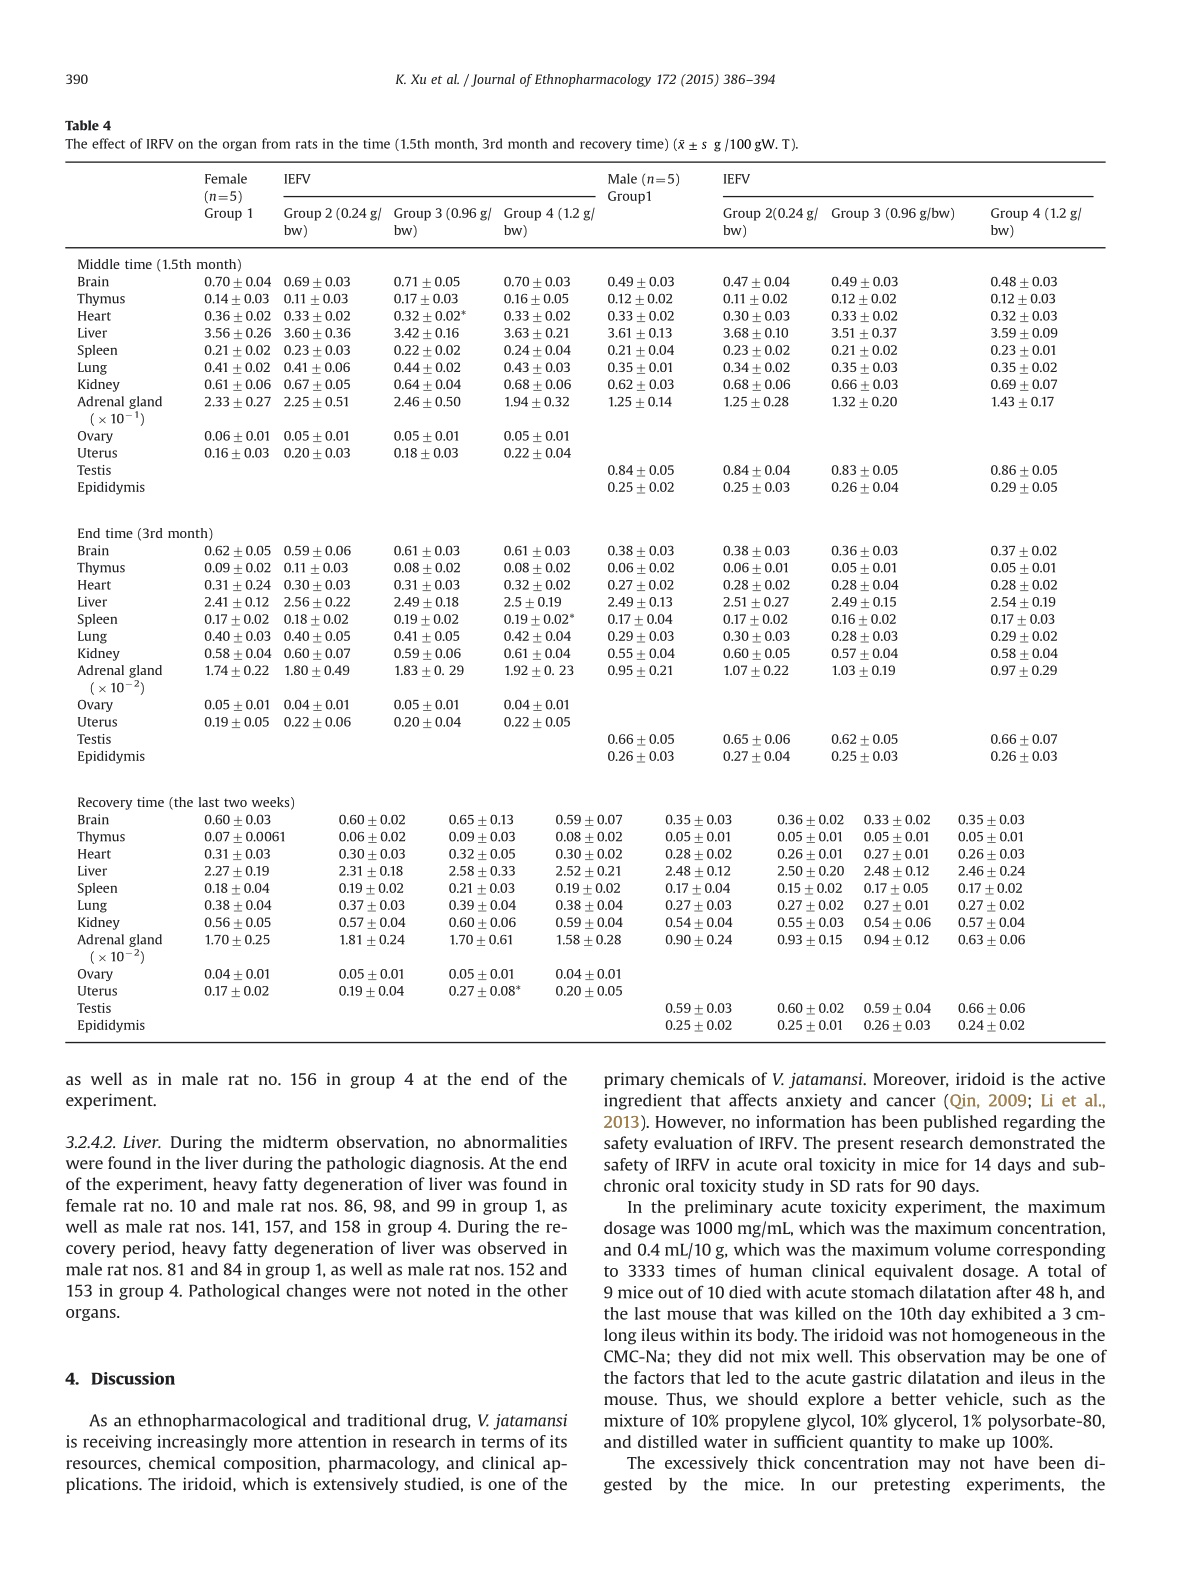partial_lined_merged_cells: (63, 159, 1106, 1043)
